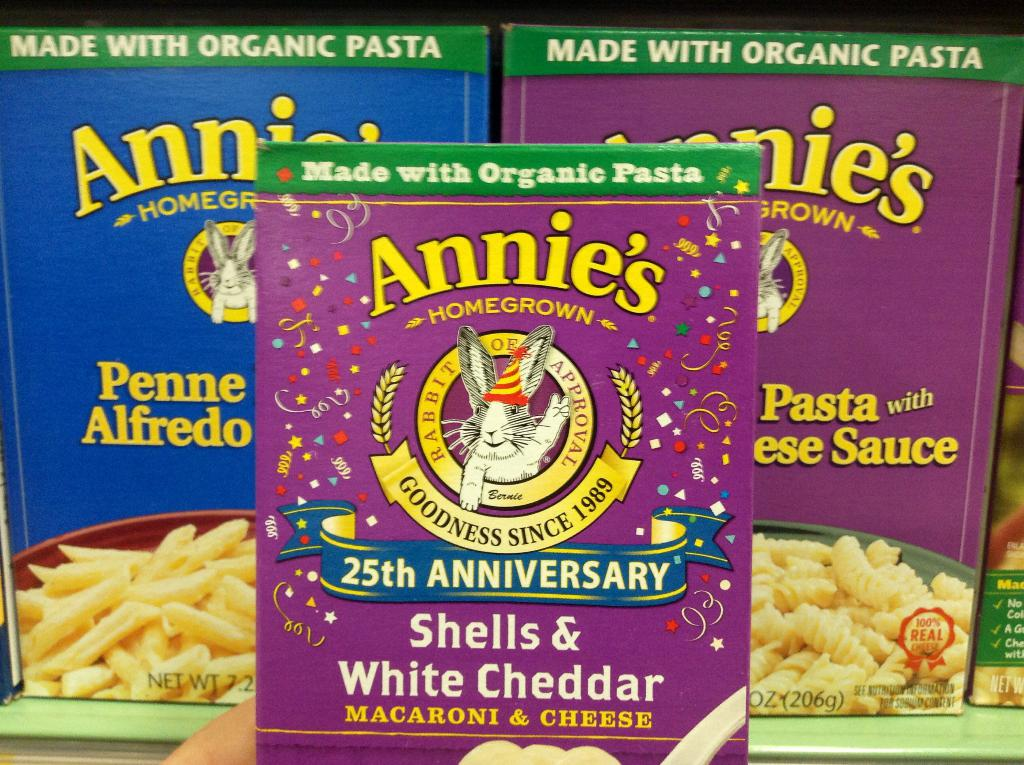French fries: (11, 519, 270, 704)
